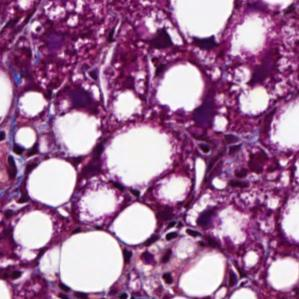inflammation: (0, 126, 31, 185), (143, 222, 204, 249), (194, 131, 245, 163)
